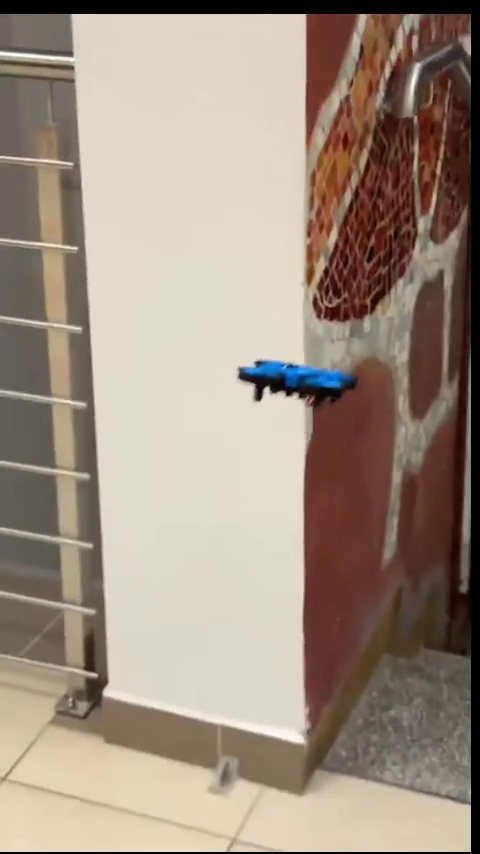drone: (240, 357, 352, 406)
